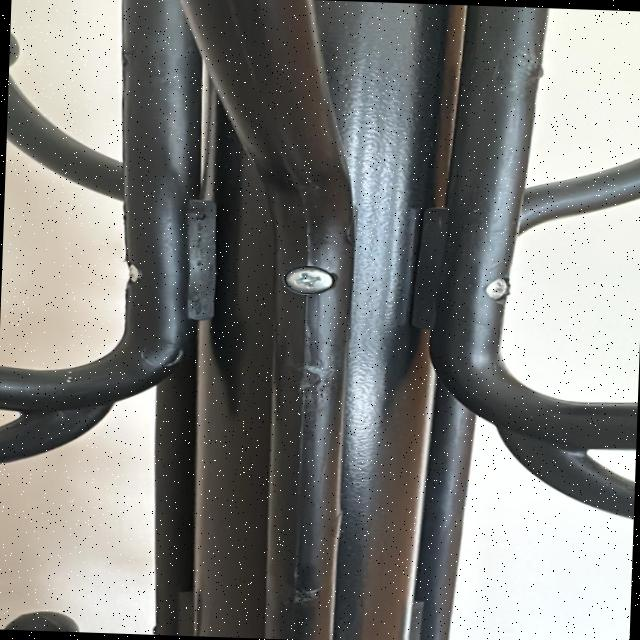Phillips: (474, 270, 517, 306), (288, 266, 336, 294)
